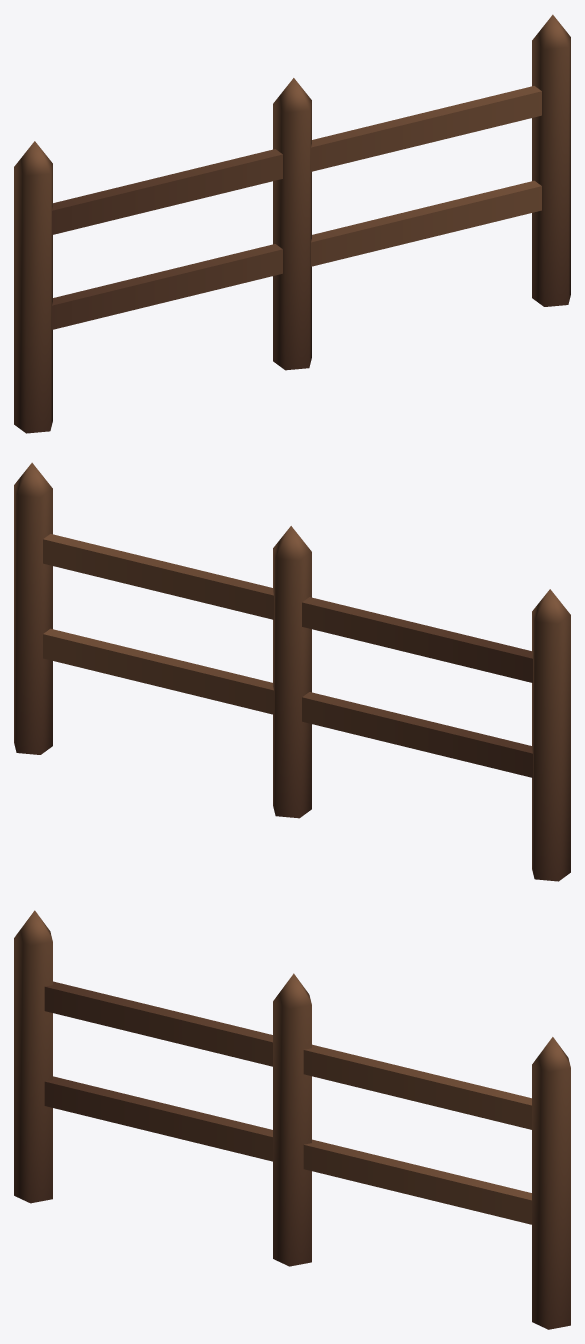
File: fence.glb
3 renders of one model, top to bottom at view 1: azimuth 30°, elevation 25°; view 2: azimuth 150°, elevation 25°; view 3: azimuth 330°, elevation 25°, orthographic.
Parts seen in each view (by area): view 1: fence; view 2: fence; view 3: fence.
Part boxes in pixels (left/top/right/bottom): fence: left=14, top=14, right=570, bottom=433; fence: left=14, top=462, right=570, bottom=881; fence: left=14, top=910, right=570, bottom=1329.
Bounding box in the file's own units: 2.13 × 1.05 × 0.1331.
